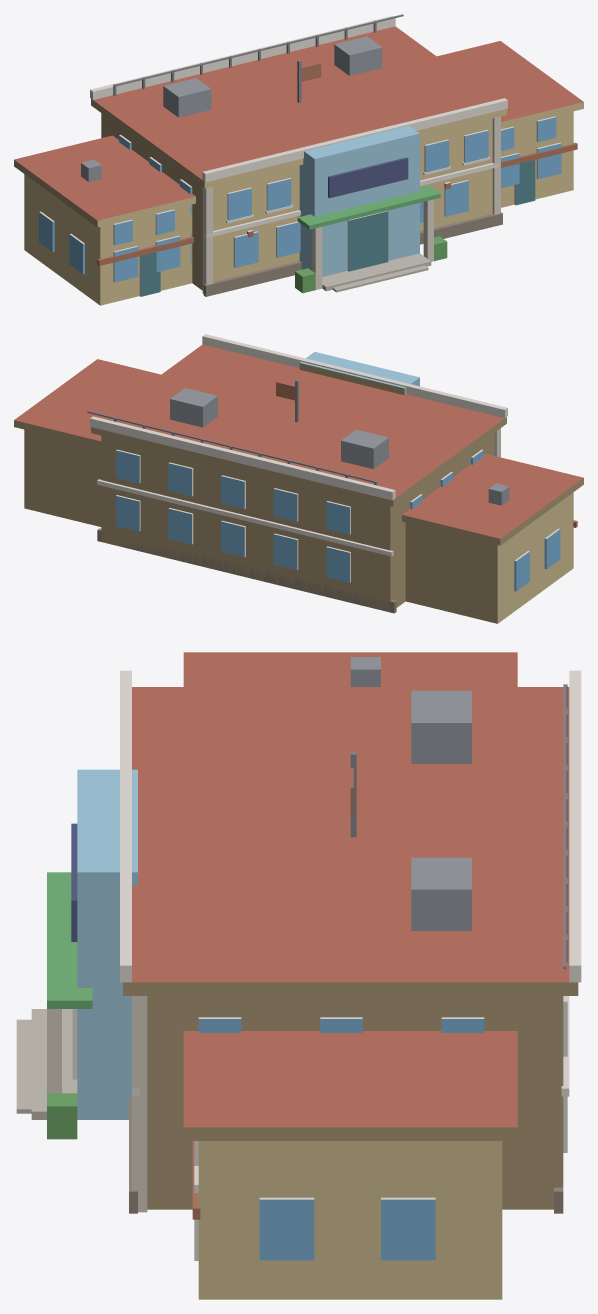
File: CommunityCollege.fbx
3 renders of one model, top to bottom at view 1: azimuth 30°, elevation 25°; view 2: azimuth 150°, elevation 25°; view 3: azimuth 270°, elevation 25°, orthographic. The views are drawn at different scales.
Visible parts, largest first — view 1: CommunityCollege; view 2: CommunityCollege; view 3: CommunityCollege.
Part boxes in pixels (x1=…): CommunityCollege: x1=14, y1=14, x2=583, y2=305; CommunityCollege: x1=14, y1=334, x2=583, y2=623; CommunityCollege: x1=16, y1=652, x2=581, y2=1299.
Bounding box in the file's own units: 3700 × 1150 × 1860.
